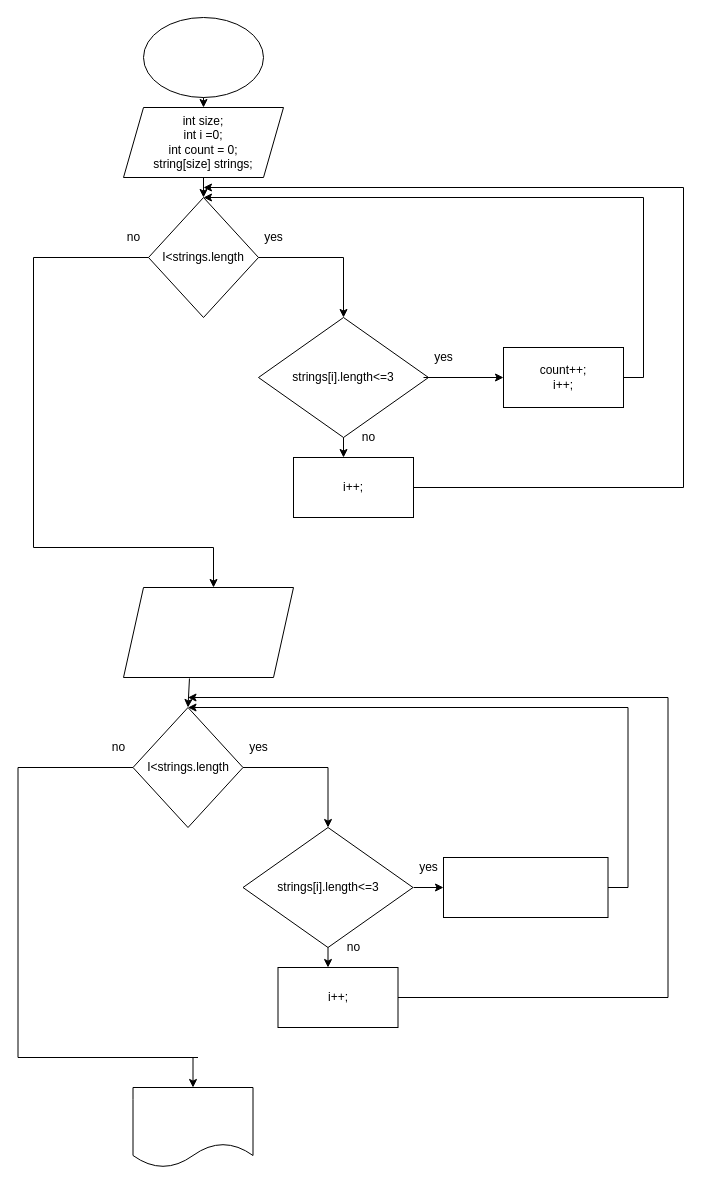
The diagram is 709 pixels wide and 1185 high, and some of its shapes have lost their labels. The shapes that lost their labels are listed below. From the top down, each one's centre as x and y in pixels, then its label:
At point (203, 57): "Начало".
At point (208, 632): "string[count] NewStrings; int count =0;".
At point (525, 887): "NewStrings[count]=strings[i]; count++; i++;".
